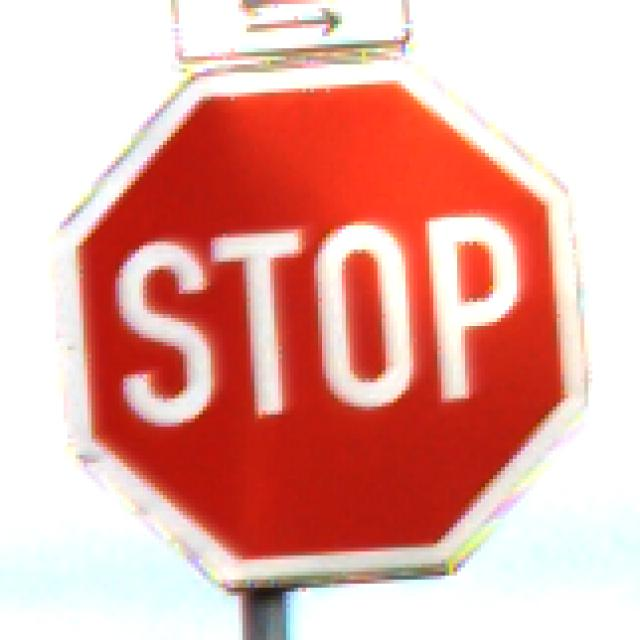STOP: (57, 57, 589, 589)
